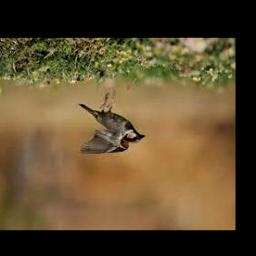Sparrow: (78, 89, 145, 154)
